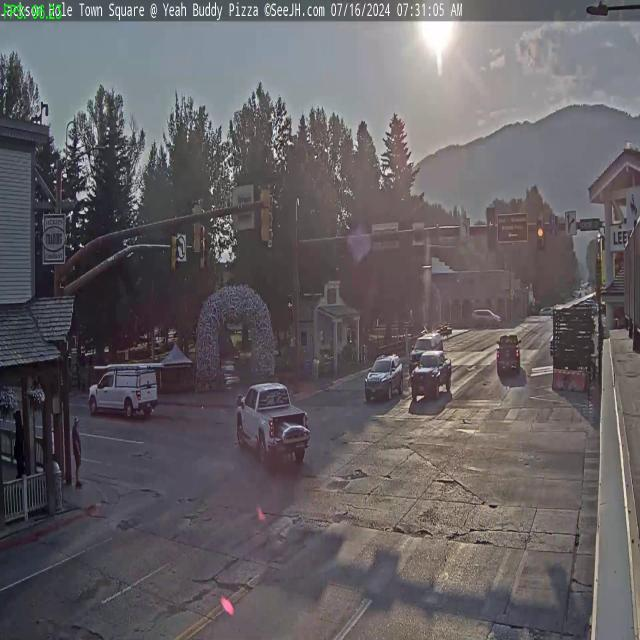person: (71, 413, 84, 485)
pickup: (232, 378, 312, 470), (88, 361, 158, 421), (411, 348, 452, 401), (495, 333, 520, 372)
suv: (364, 352, 405, 402)
traffic light: (260, 184, 273, 243), (487, 207, 498, 250), (172, 230, 183, 272), (200, 235, 209, 269), (536, 214, 544, 248)
